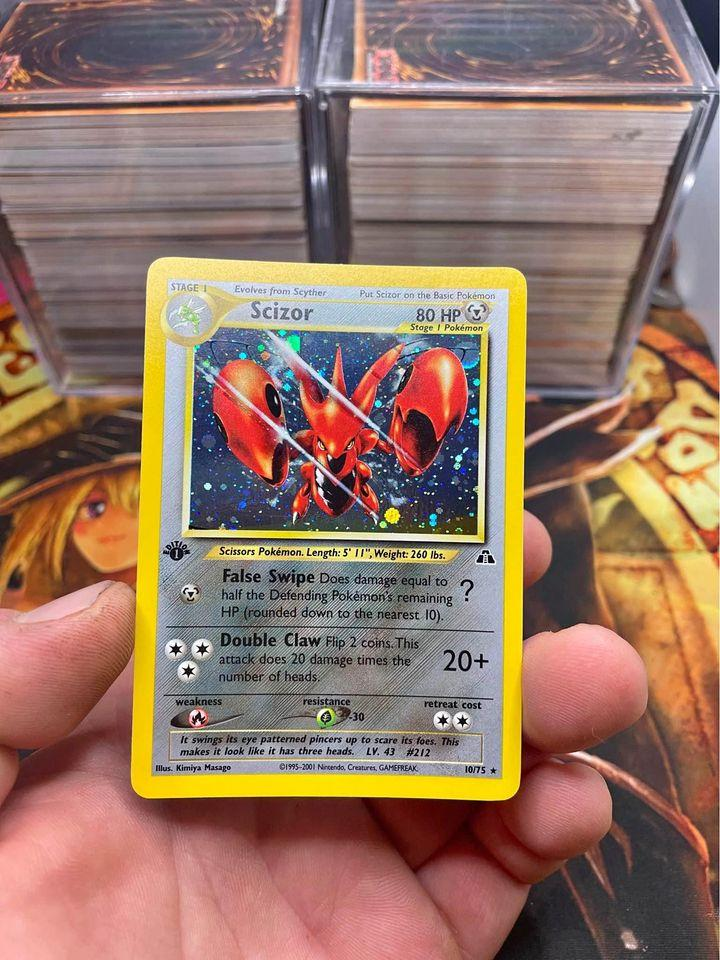card: (128, 255, 529, 802)
